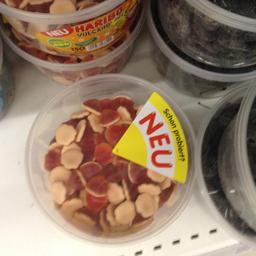candy: (22, 73, 196, 242)
